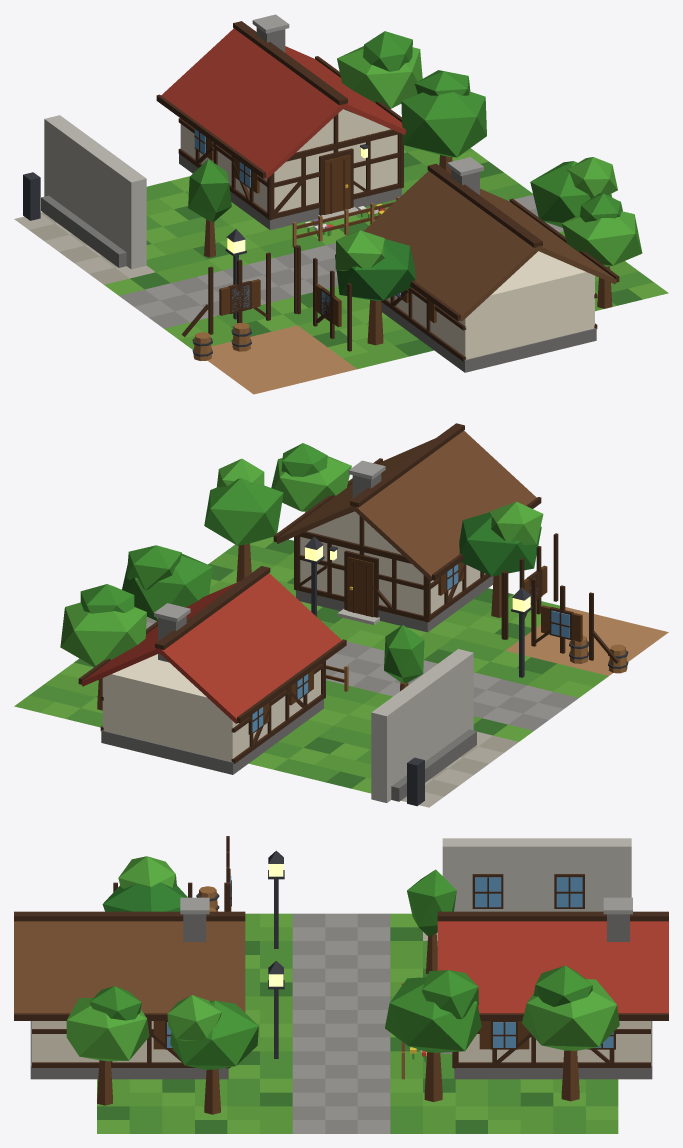
The model's file is chunk_3_2.glb.
The picture shows the model from 3 angles, top to bottom: view 1: azimuth 30°, elevation 25°; view 2: azimuth 150°, elevation 25°; view 3: azimuth 270°, elevation 25°; orthographic projection. The views are drawn at different scales.
Parts seen in each view (by area): view 1: chunk_3_2; view 2: chunk_3_2; view 3: chunk_3_2.
Boxes of the visible parts, x1,y1,x2,y2 form: chunk_3_2: (14,14,668,394); chunk_3_2: (14,423,668,807); chunk_3_2: (14,836,668,1133).
Size of the model in its own units: 16.41 by 4.94 by 20.1.
